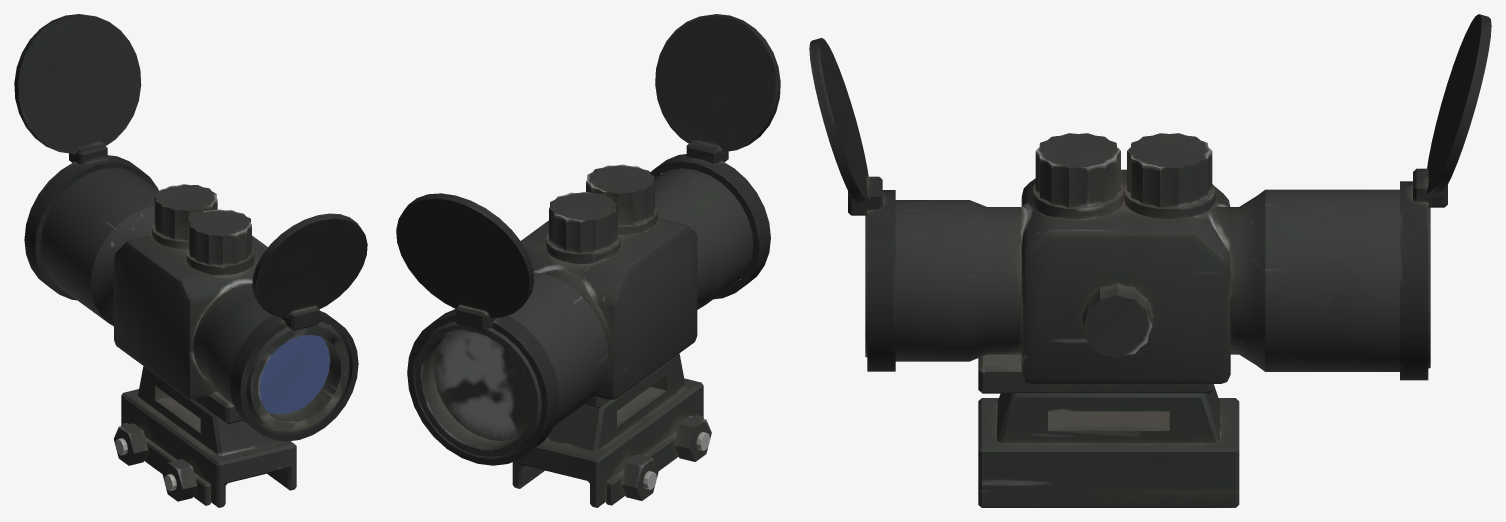
Rendered from mira_prismatica_m4.glb.
3 views of the same model, side by side, from view 1: azimuth 30°, elevation 25°; view 2: azimuth 150°, elevation 25°; view 3: azimuth 270°, elevation 25° (orthographic). The views are drawn at different scales.
Visible parts, largest first — view 1: mira_prismatica_m4_mira_prismatica, mira_prismatica_m4_tampa_lente_frente, mira_prismatica_m4_suporte_prismatica, mira_prismatica_m4_tampa_lente_tras; view 2: mira_prismatica_m4_mira_prismatica, mira_prismatica_m4_tampa_lente_frente, mira_prismatica_m4_tampa_lente_tras, mira_prismatica_m4_suporte_prismatica; view 3: mira_prismatica_m4_mira_prismatica, mira_prismatica_m4_suporte_prismatica, mira_prismatica_m4_tampa_lente_frente, mira_prismatica_m4_tampa_lente_tras.
Boxes of the visible parts, x1,y1,x2,y2 form: mira_prismatica_m4_mira_prismatica: [40, 168, 349, 431]; mira_prismatica_m4_tampa_lente_frente: [14, 14, 158, 300]; mira_prismatica_m4_suporte_prismatica: [114, 366, 296, 507]; mira_prismatica_m4_tampa_lente_tras: [230, 213, 367, 441]; mira_prismatica_m4_mira_prismatica: [415, 164, 753, 457]; mira_prismatica_m4_tampa_lente_frente: [396, 193, 559, 465]; mira_prismatica_m4_tampa_lente_tras: [650, 14, 780, 299]; mira_prismatica_m4_suporte_prismatica: [512, 353, 711, 507]; mira_prismatica_m4_mira_prismatica: [865, 133, 1430, 393]; mira_prismatica_m4_suporte_prismatica: [978, 384, 1239, 507]; mira_prismatica_m4_tampa_lente_frente: [1400, 14, 1491, 380]; mira_prismatica_m4_tampa_lente_tras: [809, 38, 895, 371].
Size of the model in its own units: 0.048 by 0.1173 by 0.1569.
Materials: 1 (1 with a texture image).
